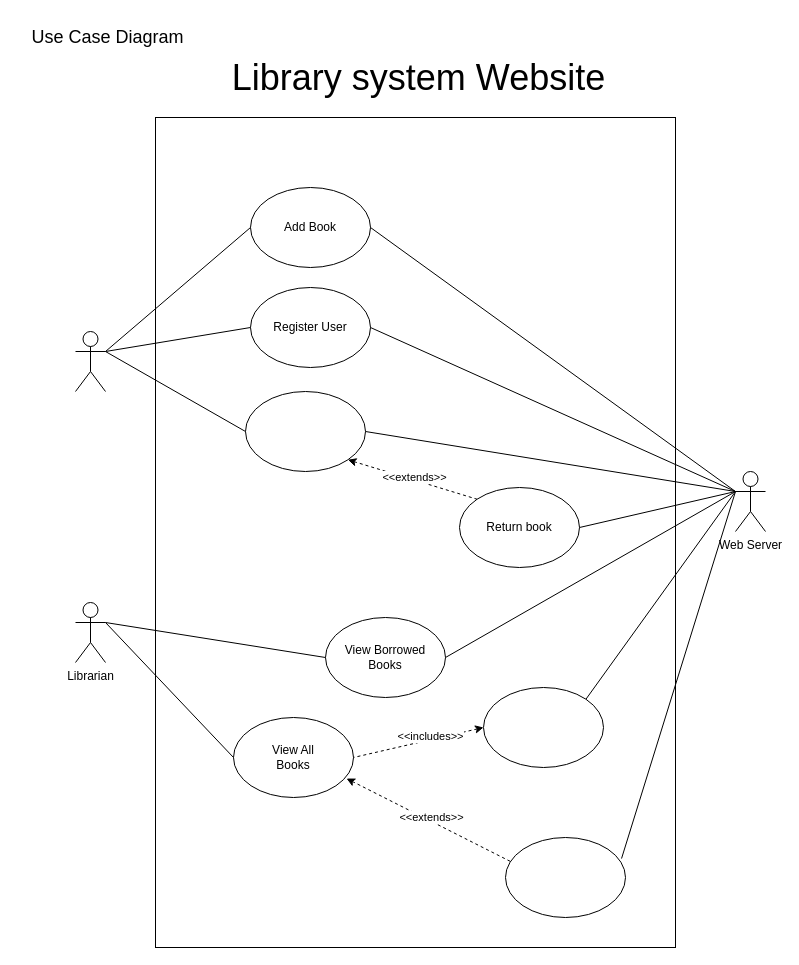
Some shapes in this 799 by 965 pixel diagram are drawn without their labels. The shapes that lost their labels are listed below. From the top down, each one's centre as x and y in pixels, then its label:
At point 90,361: "User".
At point 305,431: "Borrowed Books".
At point 543,727: "Get All Books".
At point 565,877: "Borrow Available Book".
